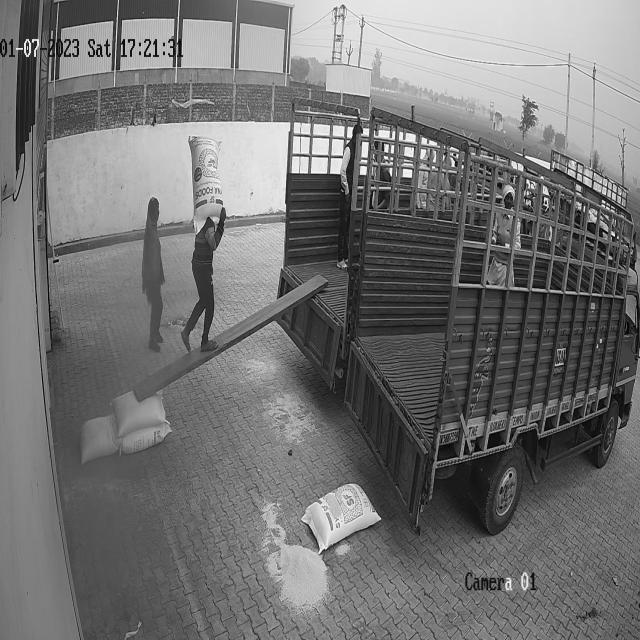sack: (301, 483, 381, 553), (188, 134, 223, 236), (110, 391, 164, 436), (79, 413, 119, 463), (122, 421, 172, 455)
